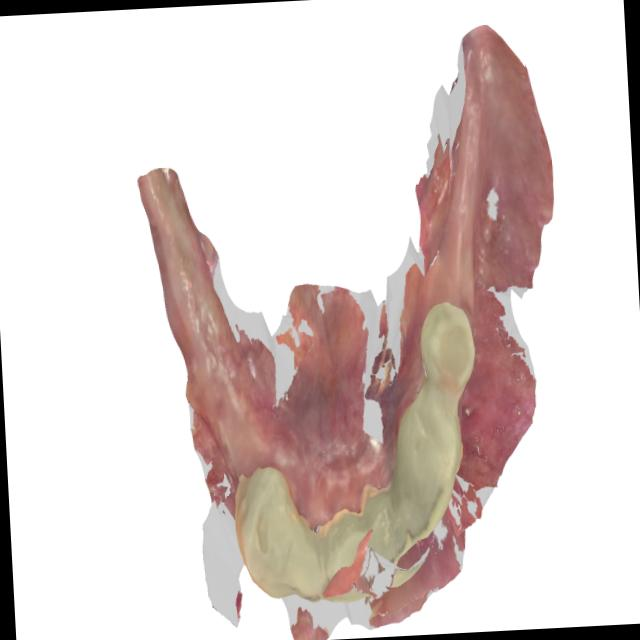tooth: (224, 444, 308, 613), (389, 380, 476, 525), (411, 284, 489, 413), (349, 462, 416, 598), (318, 496, 383, 615), (282, 504, 343, 617), (385, 455, 449, 550)
